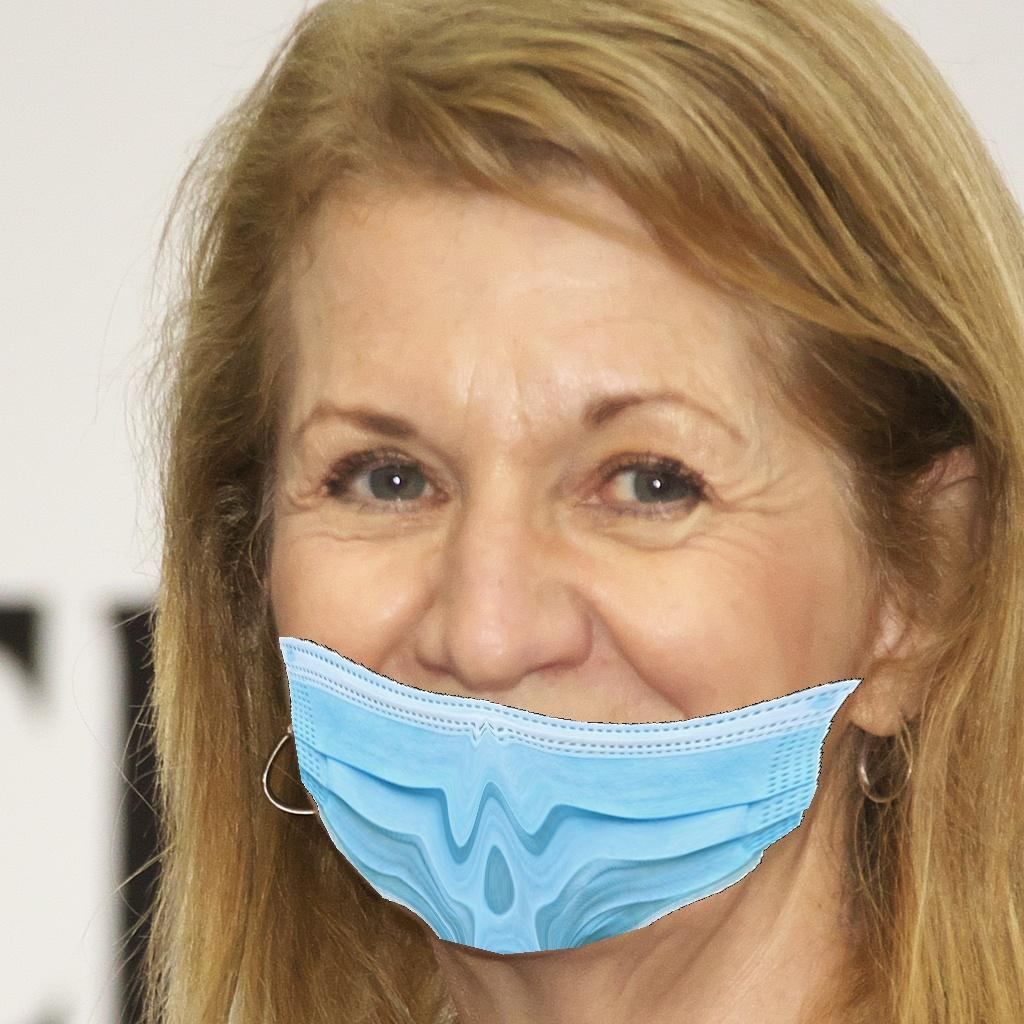Máscara Incorreta: (252, 242, 850, 908)
